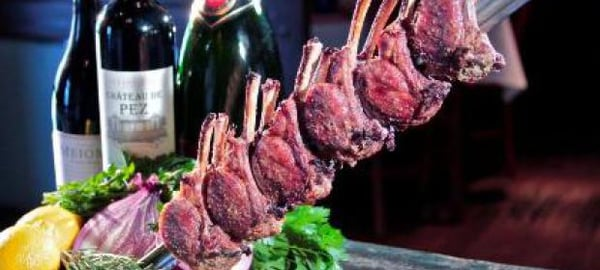burger: (175, 0, 286, 157), (96, 0, 177, 170), (50, 0, 105, 192)
